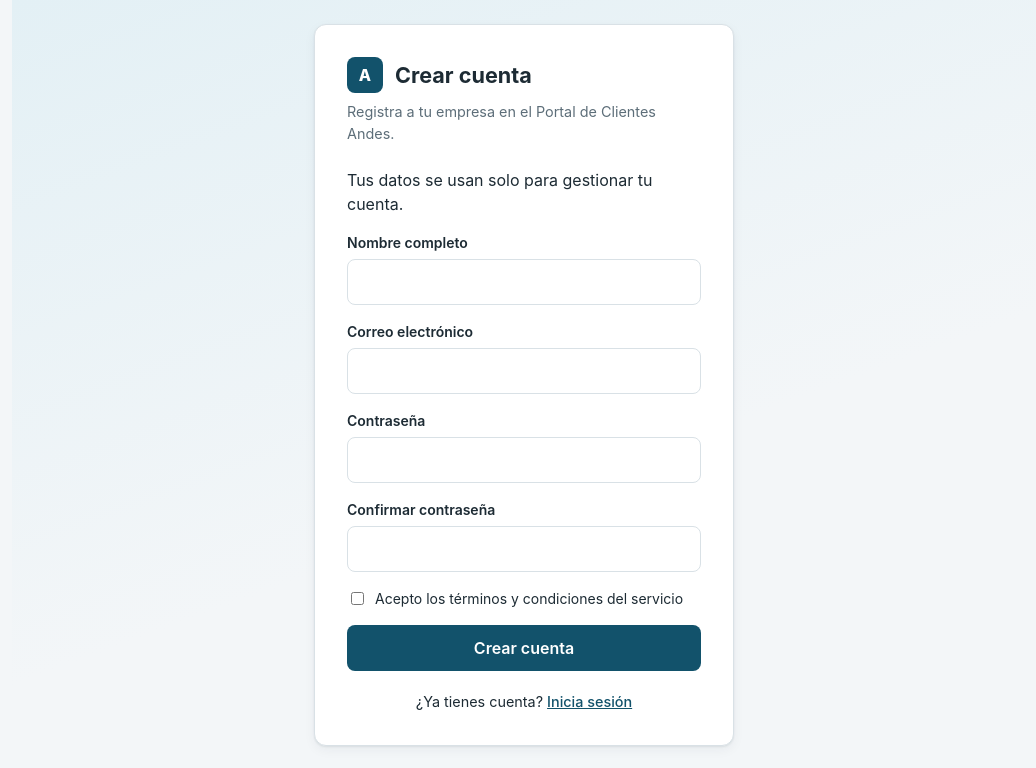
it: RegisterPage › registra una cuenta y navega al ingreso con el estado de éxito sin errores JavaScript
Type "Ana Andes" into the field labelled "Nombre completo" at (524, 282), box [347,259,701,305]
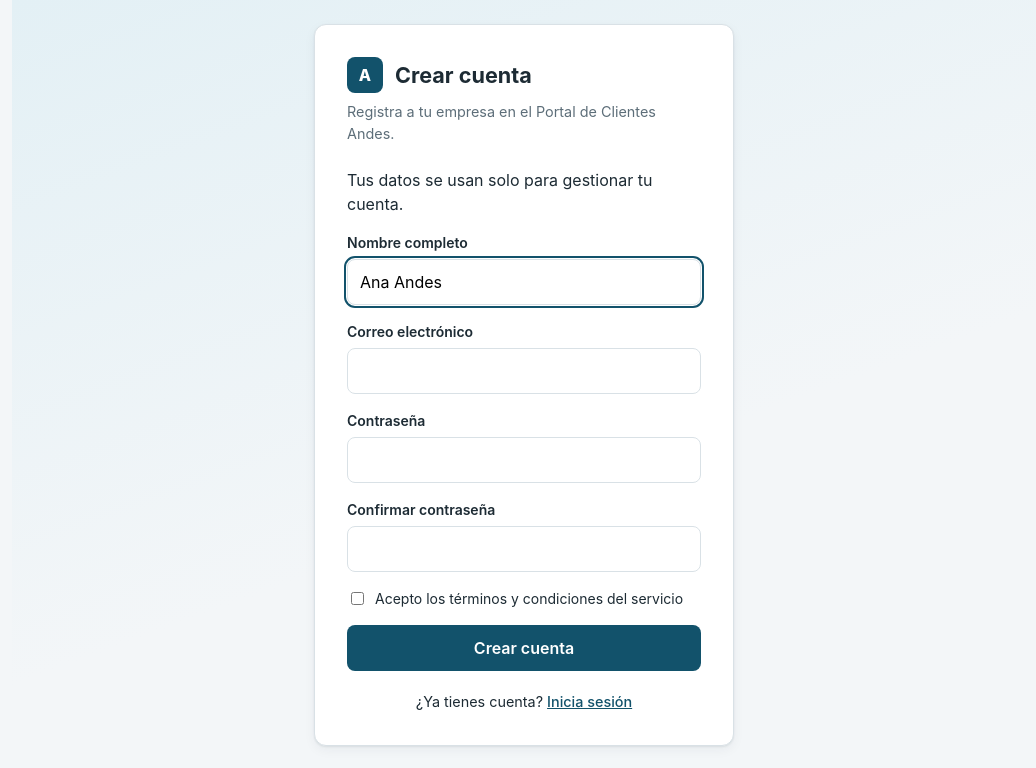
Type "ana@andes.example" into the field labelled "Correo electrónico" at (524, 371), box [347,348,701,394]
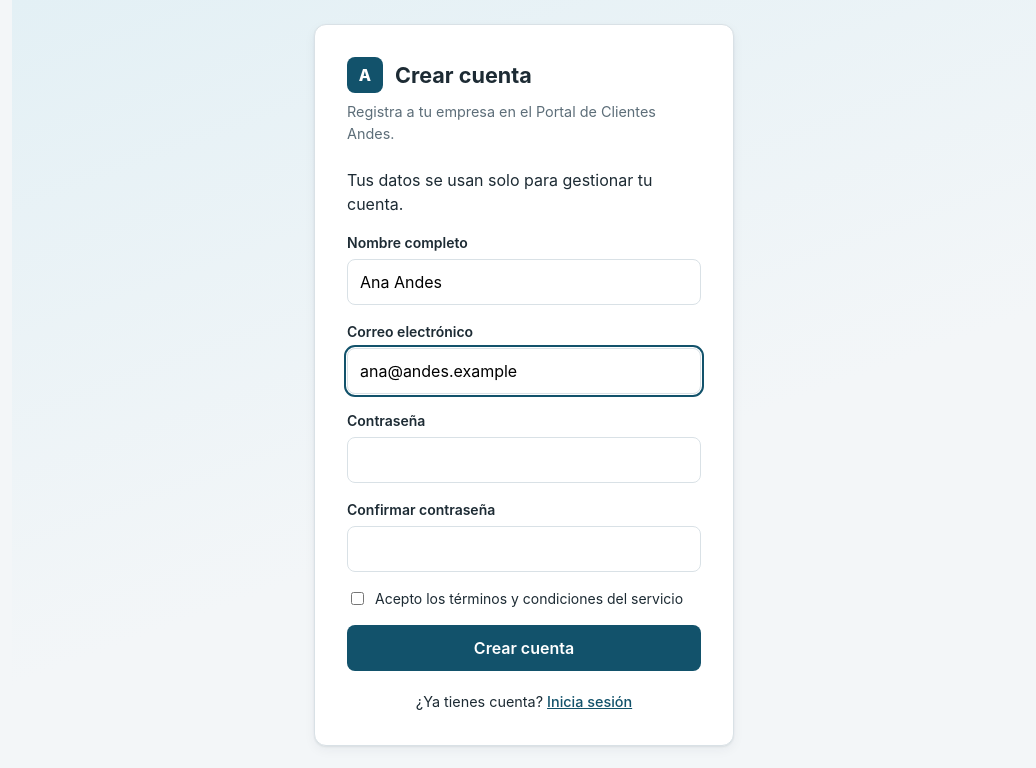
Type "Andes1234" into the password field labelled "Contraseña" at (524, 460), box [347,437,701,483]
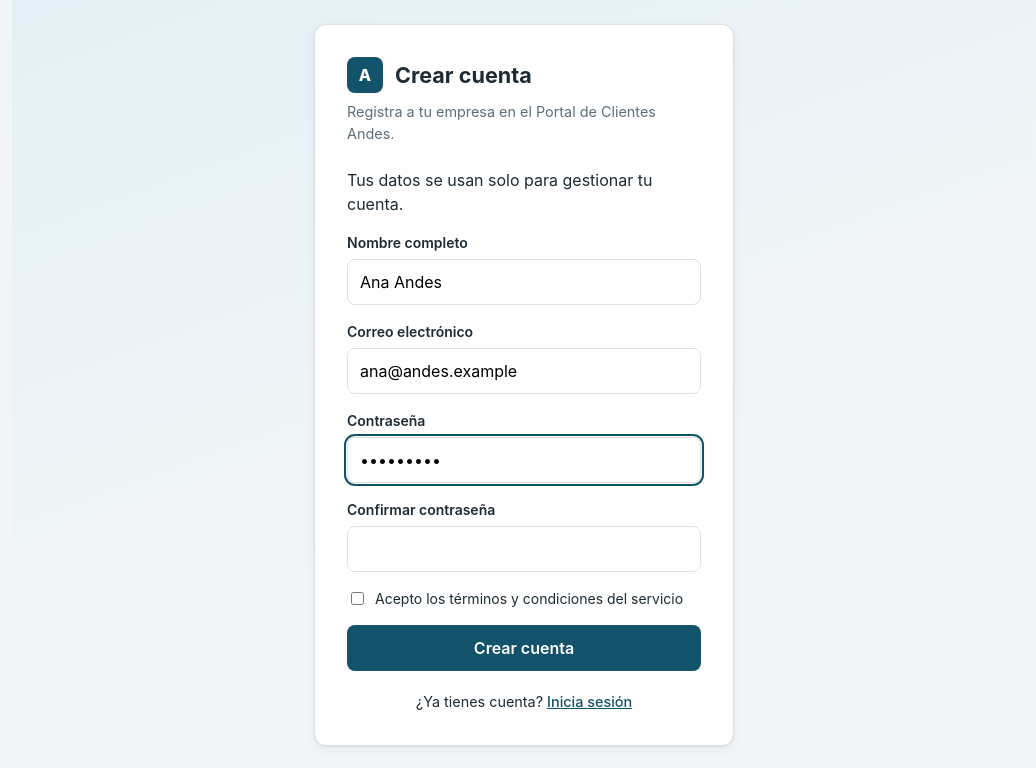
Type "Andes1234" into the password field labelled "Confirmar contraseña" at (524, 549), box [347,526,701,572]
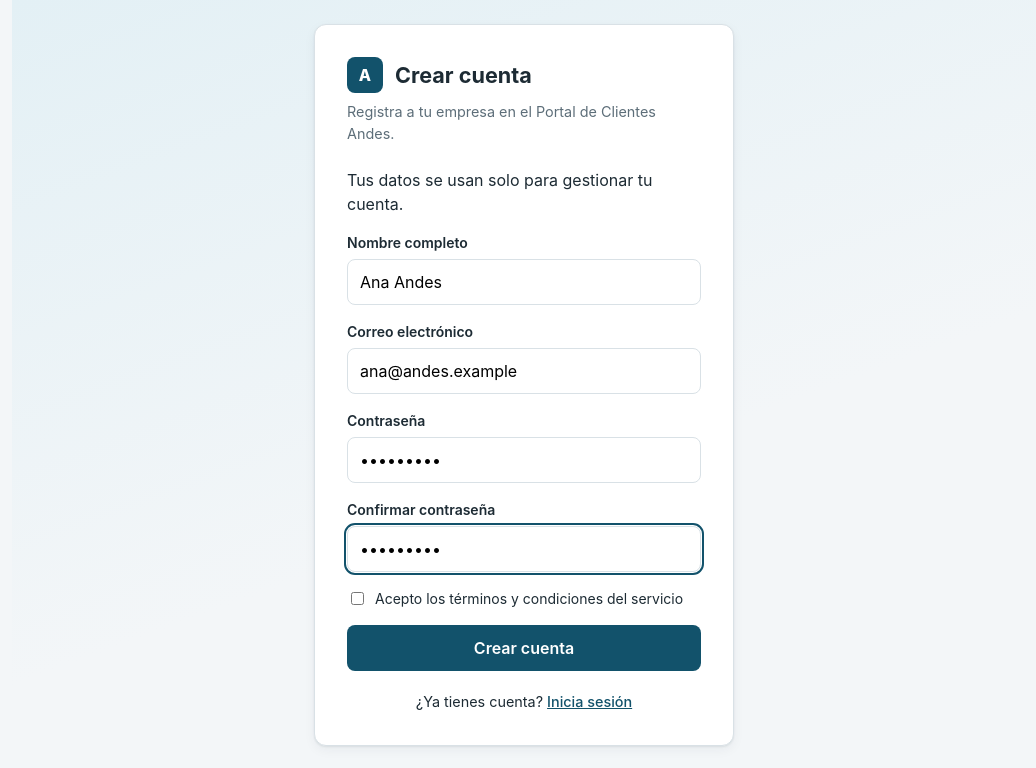
Click the checkbox labelled "Acepto los términos y condiciones del servicio" at (358, 599), box [351,592,364,605]
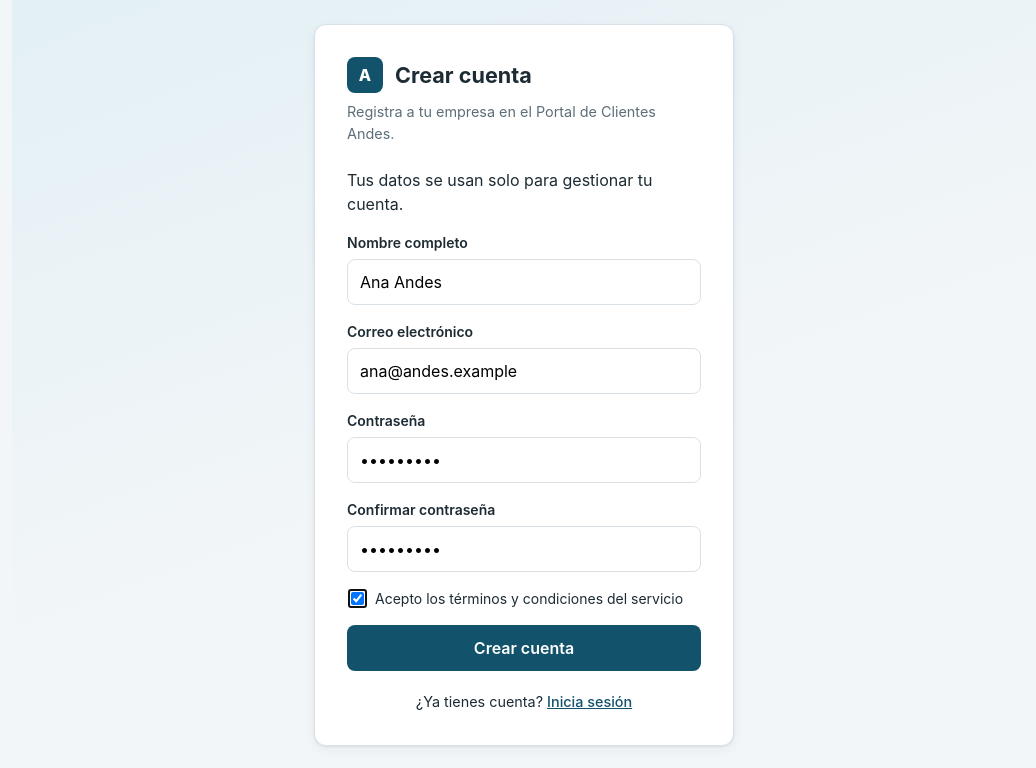
Click the button "Crear cuenta" at (524, 648), box [347,625,701,671]
(page scrolled)
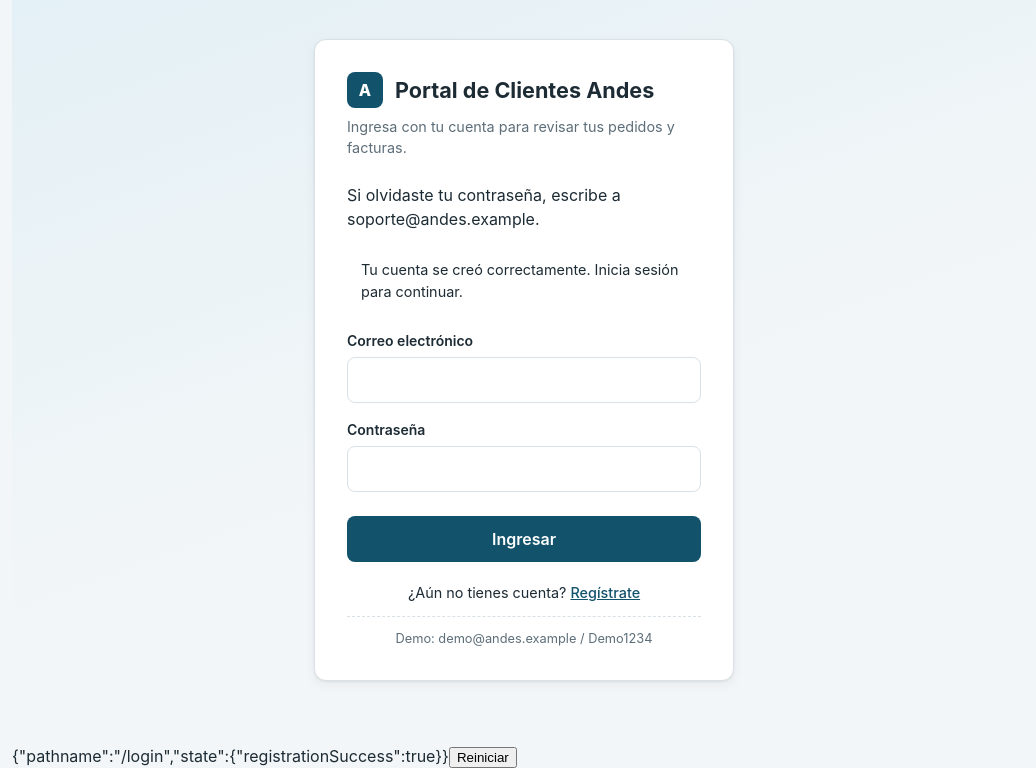
Expected: the heading "Portal de Clientes Andes" is shown, [395,74,654,106]
